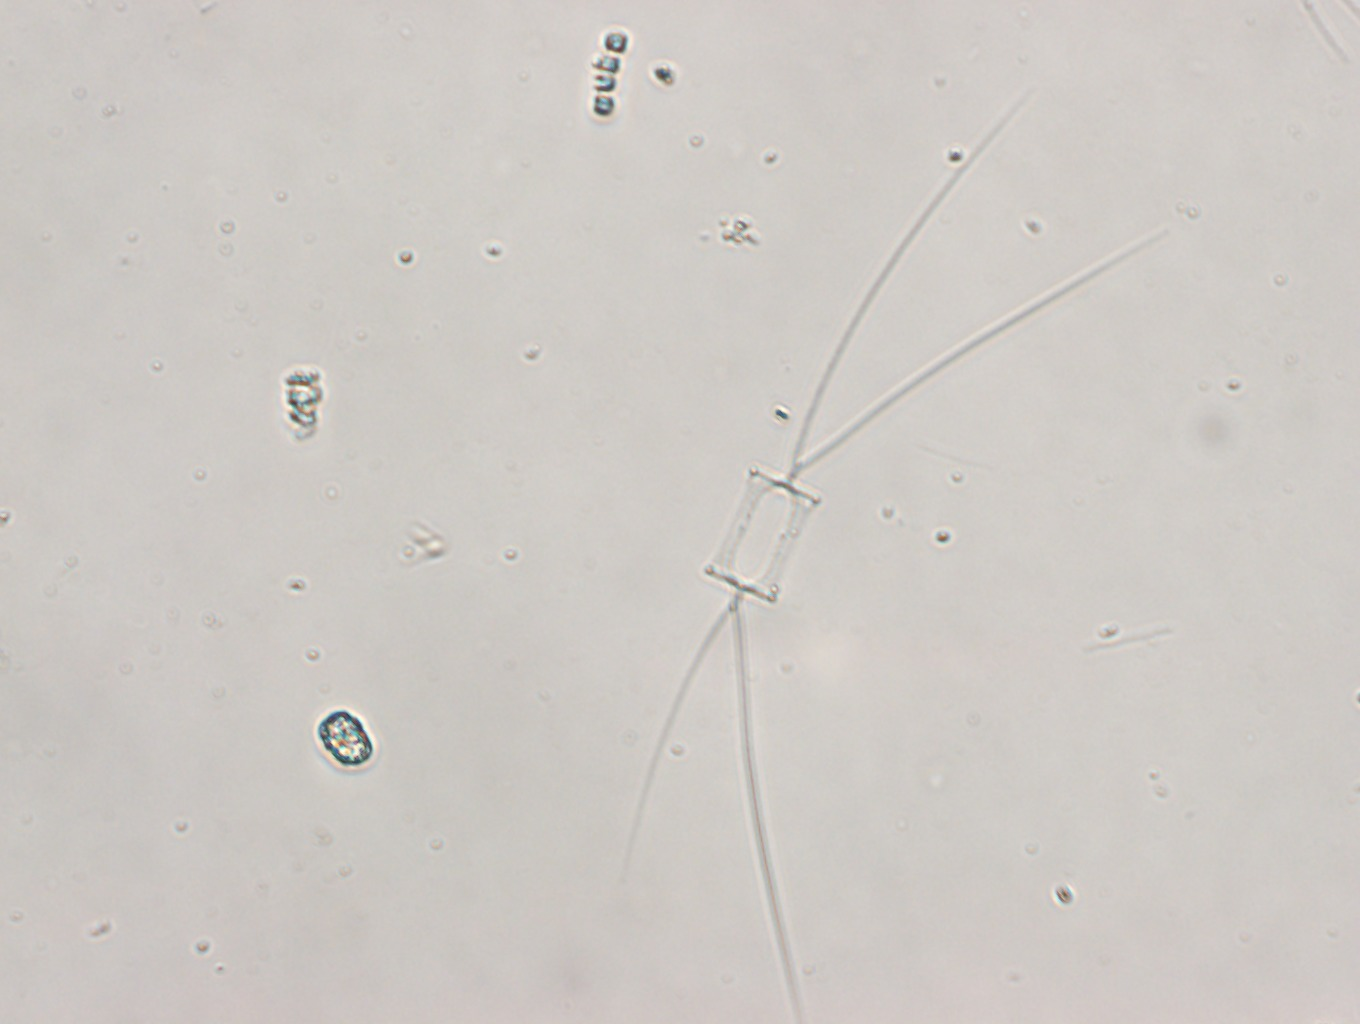chaetoceros: (636, 88, 1165, 1024)
skeletonema: (586, 27, 632, 122)
